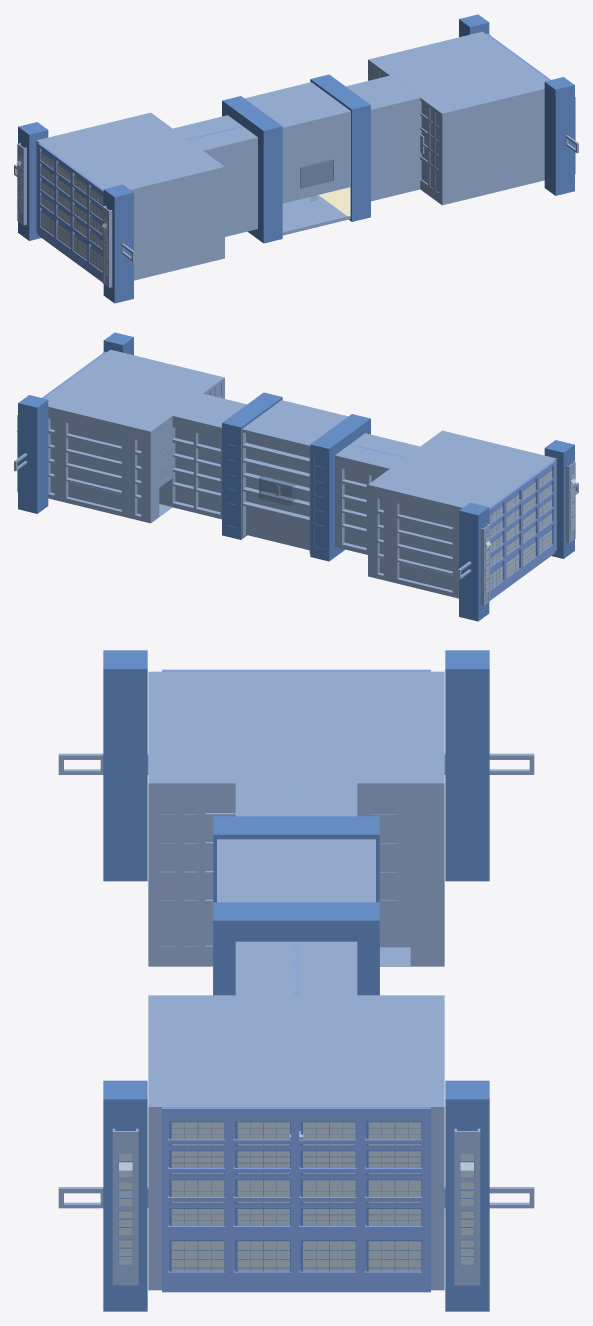
Rendered from gc_floor.glb.
3 views of the same model, one above another, from view 1: azimuth 30°, elevation 25°; view 2: azimuth 150°, elevation 25°; view 3: azimuth 270°, elevation 25° (orthographic). The views are drawn at different scales.
Parts seen in each view (by area): view 1: 立方体.013, 立方体.002, 立方体, Cube.033, 立方体.003, 窗户体.001, 窗户.001, Cube.034, 立方体.004, 保安室, 边上玻璃窗-开.007; view 2: 立方体.013, 立方体.002, 立方体, Cube.033, 立方体.003, 窗户体.001, 窗户.001, Cube.034, 保安室, 立方体.004, 边上玻璃窗-开.007; view 3: 立方体.013, Cube.033, 窗户体.001, 窗户.001, 立方体.003, 立方体.002, 立方体, Cube.034, 立方体.004, 栏杆2, 边上玻璃窗-开.007, 边上玻璃框.004.
Part boxes in pixels (left/top/right/bottom): 立方体.013: left=36, top=31, right=548, bottom=280; 立方体.002: left=173, top=75, right=421, bottom=236; 立方体: left=245, top=82, right=350, bottom=235; Cube.033: left=18, top=14, right=574, bottom=303; 立方体.003: left=222, top=74, right=370, bottom=243; 窗户体.001: left=37, top=33, right=550, bottom=282; 窗户.001: left=40, top=151, right=103, bottom=271; Cube.034: left=17, top=34, right=575, bottom=287; 立方体.004: left=62, top=50, right=530, bottom=175; 保安室: left=300, top=159, right=333, bottom=188; 边上玻璃窗-开.007: left=16, top=113, right=576, bottom=275; 立方体.013: left=44, top=349, right=556, bottom=598; 立方体.002: left=172, top=393, right=419, bottom=554; 立方体: left=242, top=400, right=347, bottom=553; Cube.033: left=18, top=332, right=574, bottom=621; 立方体.003: left=222, top=392, right=370, bottom=561; 窗户体.001: left=42, top=351, right=555, bottom=600; 窗户.001: left=490, top=469, right=552, bottom=589; Cube.034: left=17, top=352, right=575, bottom=605; 保安室: left=259, top=475, right=295, bottom=506; 立方体.004: left=66, top=368, right=516, bottom=493; 边上玻璃窗-开.007: left=16, top=431, right=576, bottom=593; 立方体.013: left=148, top=671, right=444, bottom=1290; Cube.033: left=103, top=650, right=489, bottom=1311; 窗户体.001: left=162, top=669, right=430, bottom=1292; 窗户.001: left=169, top=1121, right=422, bottom=1271; 立方体.003: left=213, top=816, right=379, bottom=995; 立方体.002: left=235, top=783, right=357, bottom=995; 立方体: left=217, top=839, right=375, bottom=902; Cube.034: left=112, top=1128, right=480, bottom=1285; 立方体.004: left=250, top=671, right=342, bottom=1106; 栏杆2: left=58, top=753, right=534, bottom=1208; 边上玻璃窗-开.007: left=119, top=1153, right=473, bottom=1264; 边上玻璃框.004: left=118, top=1153, right=474, bottom=1264.
Size of the model in its own units: 1199678 by 273704 by 524163.
